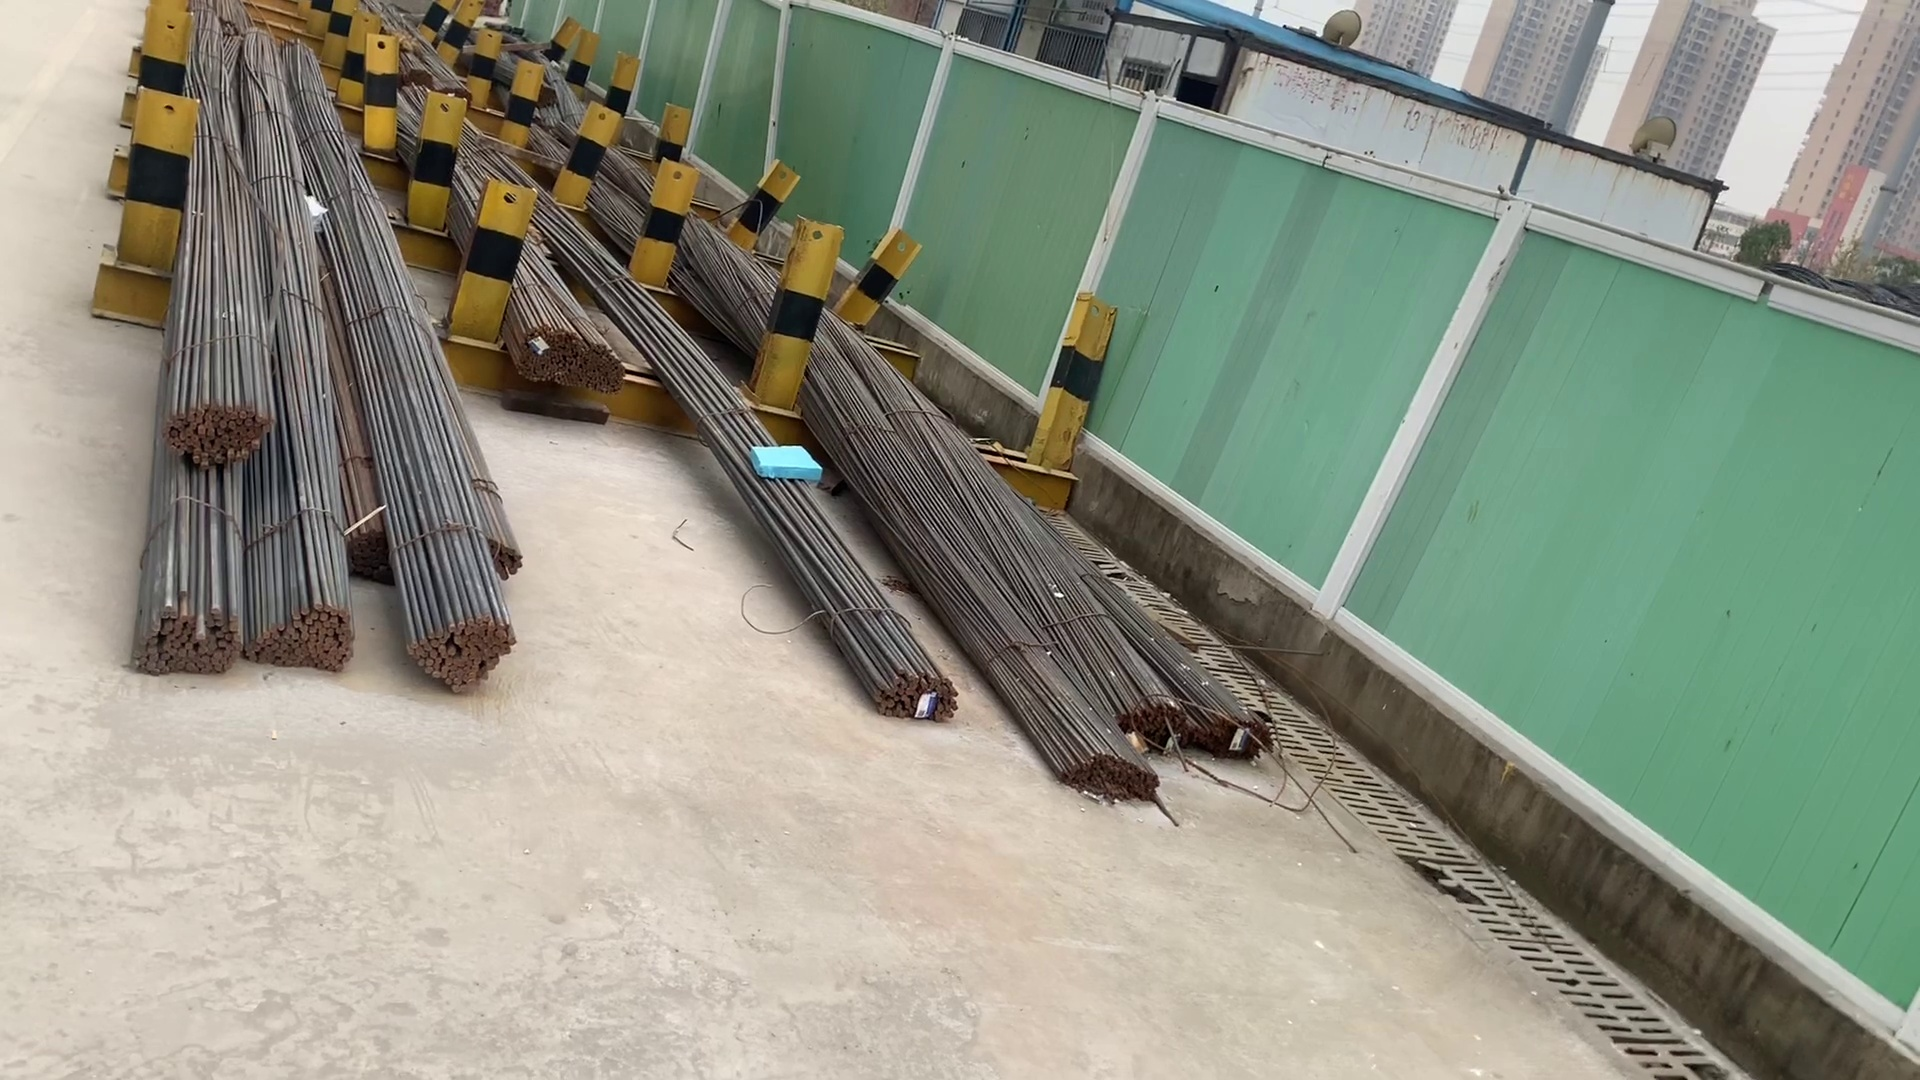rebar: (506, 313, 626, 398), (241, 591, 356, 675), (158, 388, 280, 465), (133, 592, 239, 673), (415, 611, 520, 691), (1065, 742, 1156, 804), (866, 665, 961, 723), (1203, 698, 1283, 761), (1118, 694, 1196, 754), (345, 514, 400, 584), (477, 530, 537, 584)
